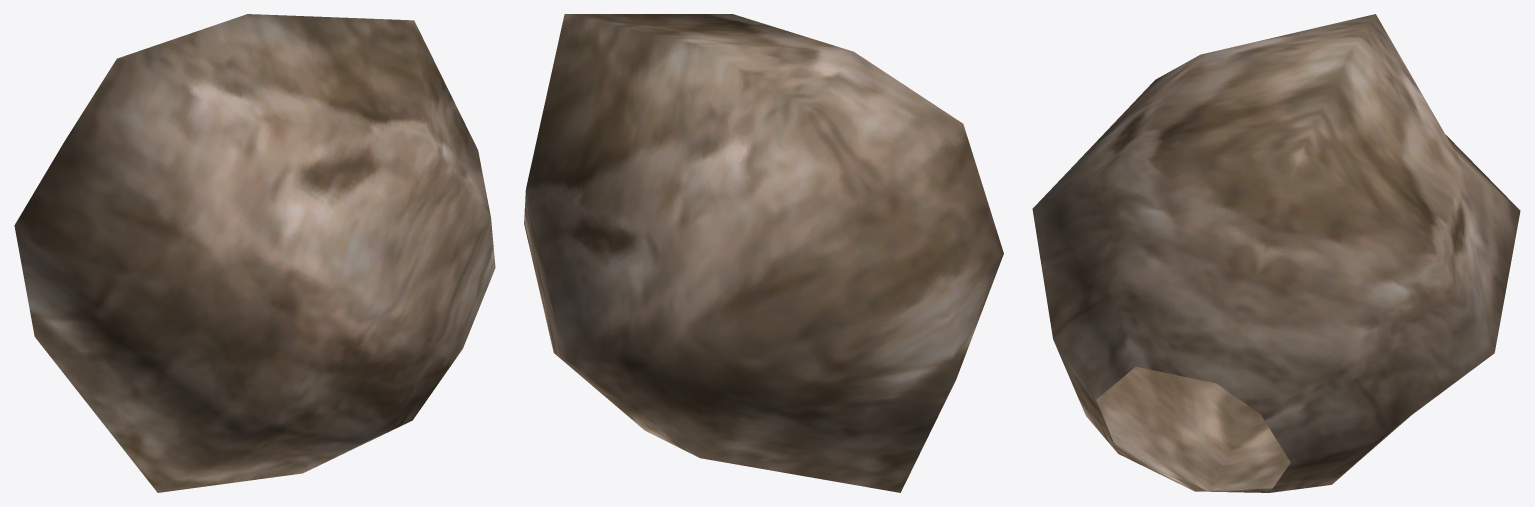
File: OVERHILL_A_01_ROCK90.fbx
The picture shows the model from 3 angles, left to right: view 1: azimuth 30°, elevation 25°; view 2: azimuth 150°, elevation 25°; view 3: azimuth 270°, elevation 25°; orthographic projection. The views are drawn at different scales.
Visible parts, largest first — view 1: OVERHILL_A_01_ROCK90; view 2: OVERHILL_A_01_ROCK90; view 3: OVERHILL_A_01_ROCK90.
Boxes of the visible parts, x1,y1,x2,y2 form: OVERHILL_A_01_ROCK90: (14, 14, 495, 492); OVERHILL_A_01_ROCK90: (524, 14, 1003, 492); OVERHILL_A_01_ROCK90: (1032, 14, 1520, 492).
Size of the model in its own units: 6402 by 6098 by 6057.
1 material, 1 textured.
